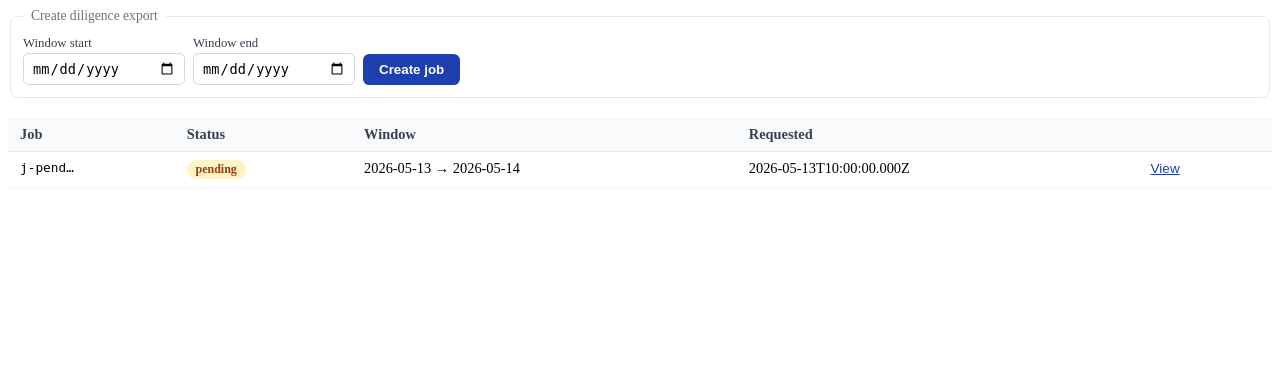
Test: DiligenceWorkspace › the detail panel renders for a pending job (no Completed row, no Download)
Expected: the row with test id "diligence-job-row-j-pend" is shown, [8,151,1272,188]
Click the button with test id "diligence-job-select-j-pend": (1165, 168) [1144,160,1186,177]
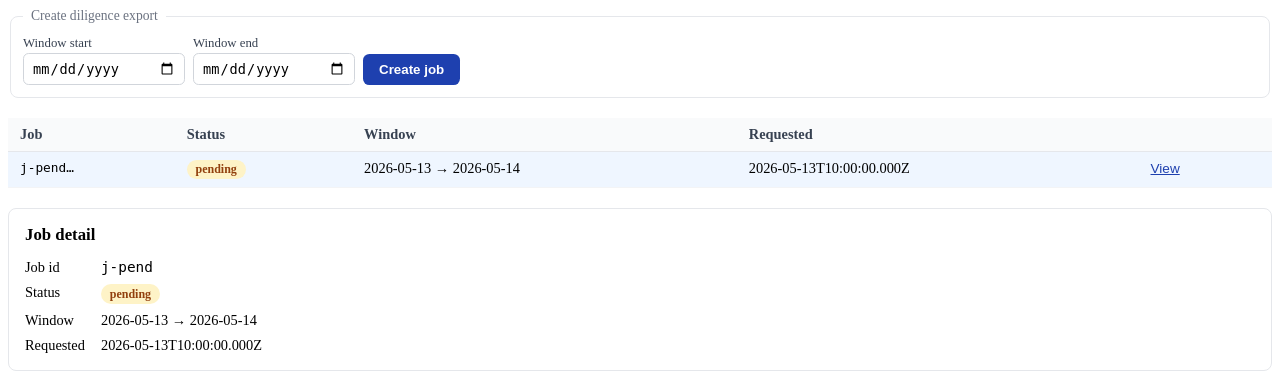
Now the element with test id "diligence-job-detail" is shown, box [8,208,1272,371]
